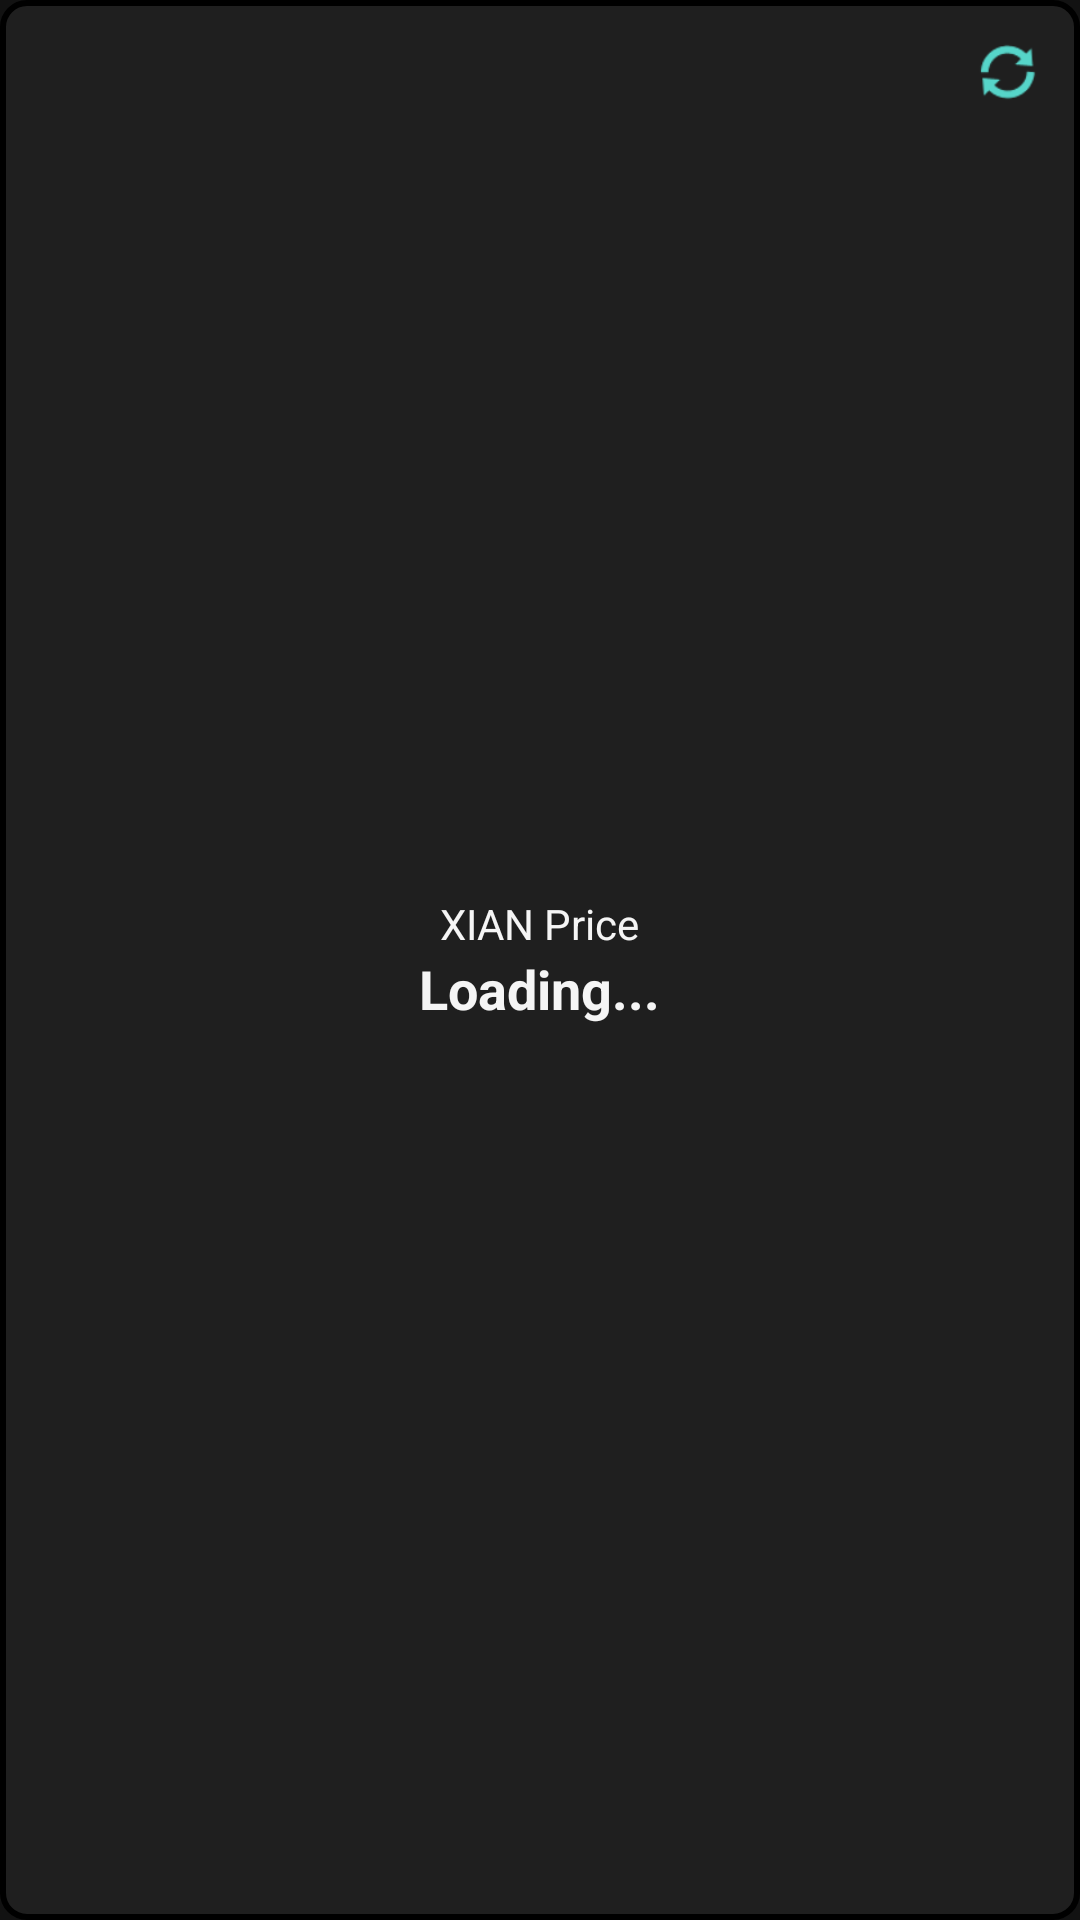

Named icons in this screenshot (1080px×1920px) and their centers, (x=x, y=y):
Refresh Price: (x=1008, y=72)
